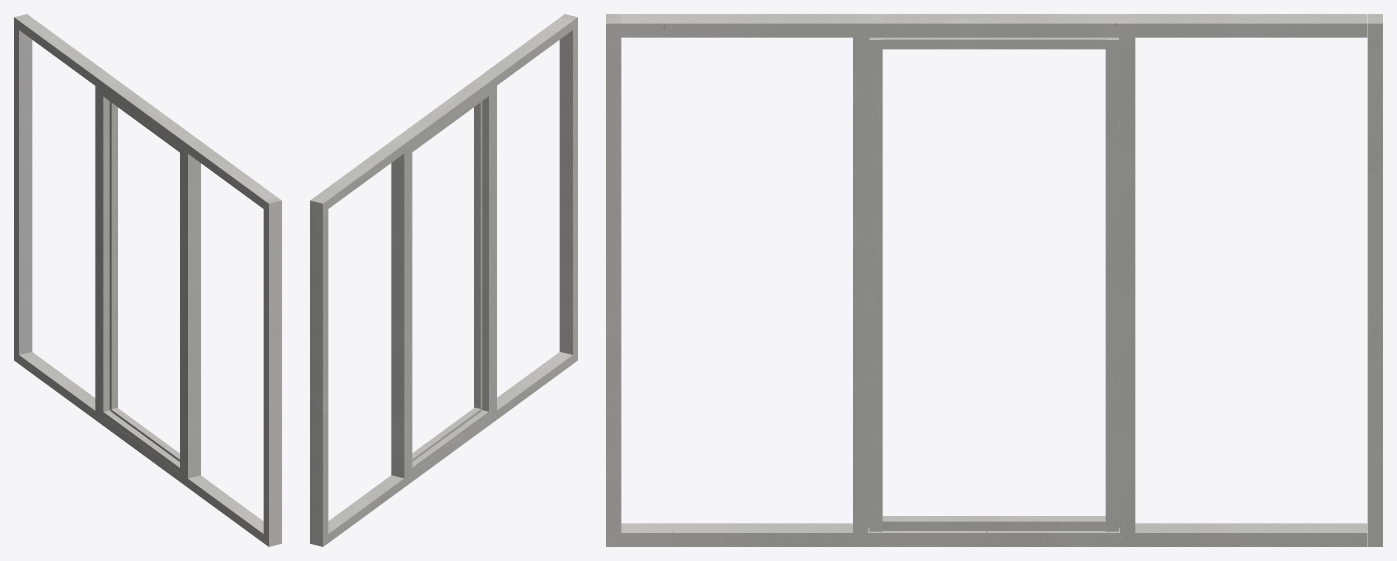
The model's file is Window1.fbx.
The picture shows the model from 3 angles, left to right: view 1: azimuth 30°, elevation 25°; view 2: azimuth 150°, elevation 25°; view 3: azimuth 270°, elevation 25°; orthographic projection. The views are drawn at different scales.
Visible parts, largest first — view 1: polySurface1161; view 2: polySurface1161; view 3: polySurface1161.
Boxes of the visible parts, x1,y1,x2,y2 form: polySurface1161: [14, 14, 281, 546]; polySurface1161: [310, 14, 577, 546]; polySurface1161: [606, 14, 1382, 546].
Size of the model in its own units: 0.0737 by 1.84 by 2.48.
